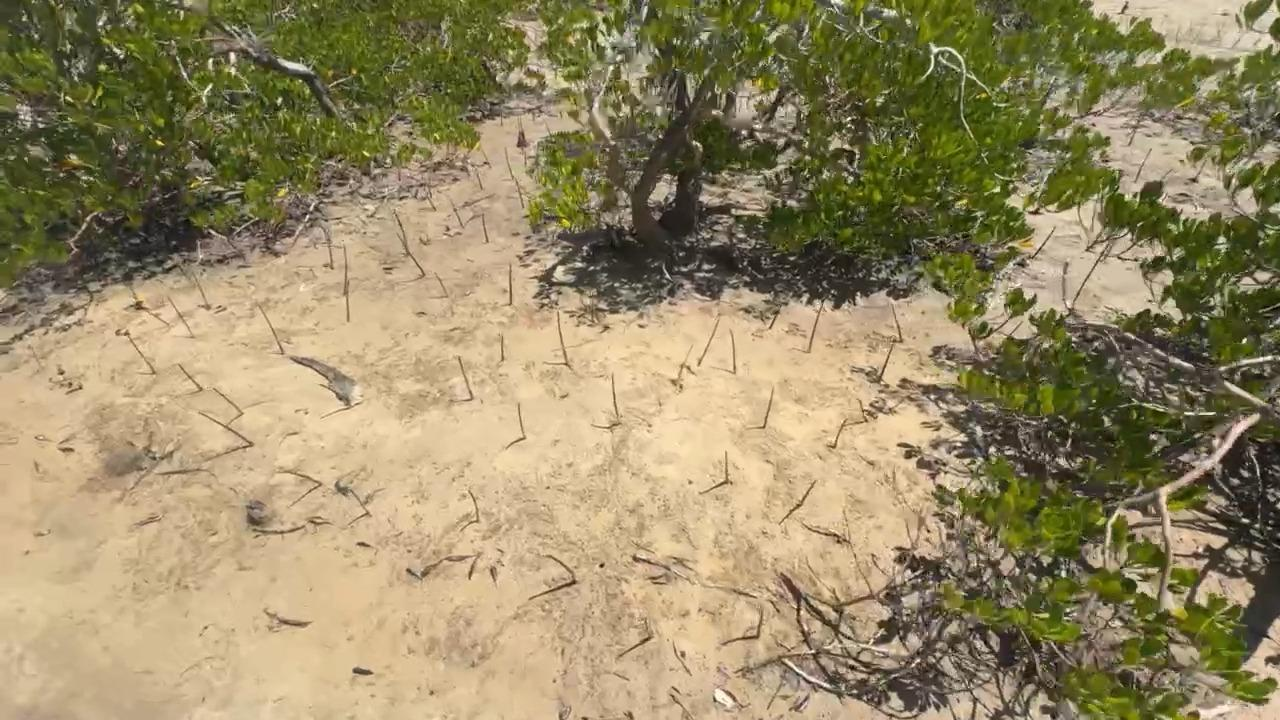Tree: (199, 411, 254, 447), (256, 303, 285, 355), (126, 334, 156, 374), (167, 296, 195, 337), (398, 234, 425, 276), (696, 320, 719, 366), (212, 387, 244, 415), (546, 554, 577, 582), (457, 355, 474, 401), (676, 344, 694, 386), (177, 363, 204, 391), (319, 383, 350, 406), (191, 271, 210, 308), (877, 344, 894, 383), (808, 306, 822, 353), (557, 311, 568, 364), (393, 208, 407, 246), (349, 489, 370, 514), (287, 470, 322, 485), (891, 304, 904, 343), (798, 479, 816, 507), (763, 387, 774, 429), (834, 418, 848, 449), (433, 271, 449, 298), (467, 490, 479, 523), (449, 198, 463, 226), (611, 371, 619, 415), (728, 329, 736, 373), (1192, 159, 1207, 182), (518, 402, 527, 439), (1127, 120, 1140, 145), (342, 242, 348, 295), (1139, 148, 1152, 170), (858, 399, 869, 422), (426, 191, 437, 211), (508, 262, 513, 305), (345, 280, 350, 323), (482, 212, 489, 242), (644, 617, 653, 640), (757, 609, 763, 639), (725, 450, 729, 483), (501, 335, 504, 362), (672, 639, 677, 655)
